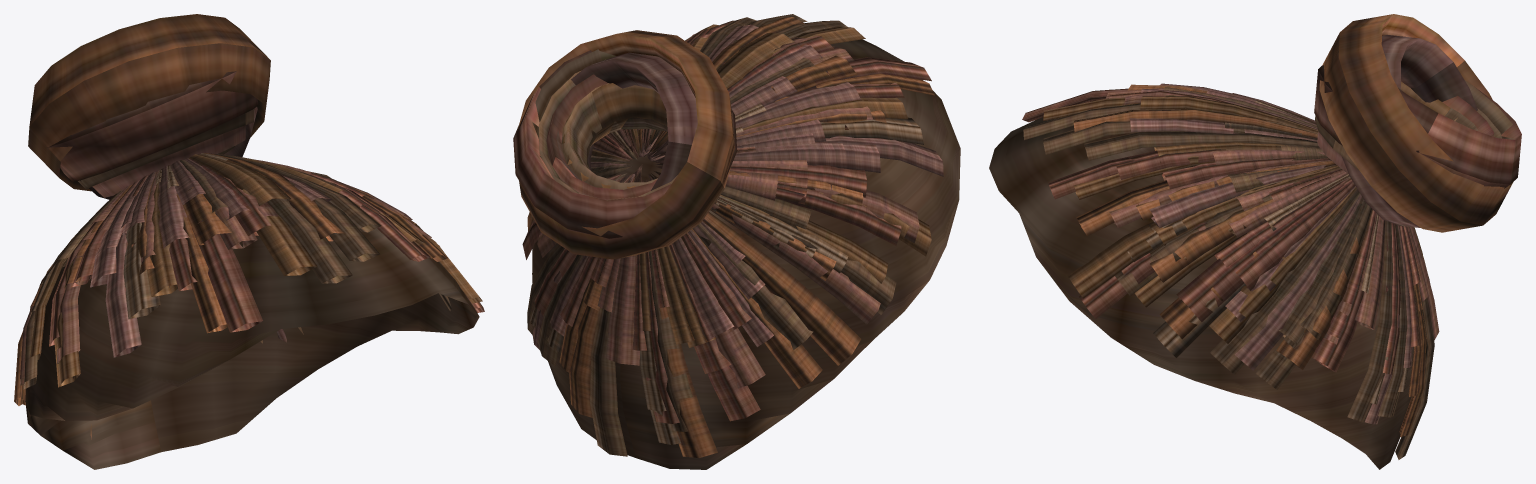
Rendered from coque.glb.
3 views of the same model, side by side, from view 1: azimuth 30°, elevation 25°; view 2: azimuth 150°, elevation 25°; view 3: azimuth 270°, elevation 25° (orthographic). The views are drawn at different scales.
Visible parts, largest first — view 1: cabelo_coque; view 2: cabelo_coque; view 3: cabelo_coque.
Boxes of the visible parts, x1=… form: cabelo_coque: x1=14, y1=14, x2=484, y2=469; cabelo_coque: x1=513, y1=14, x2=960, y2=469; cabelo_coque: x1=989, y1=14, x2=1521, y2=469.
Size of the model in its own units: 0.1648 by 0.1811 by 0.2072.
1 material, 1 textured.
